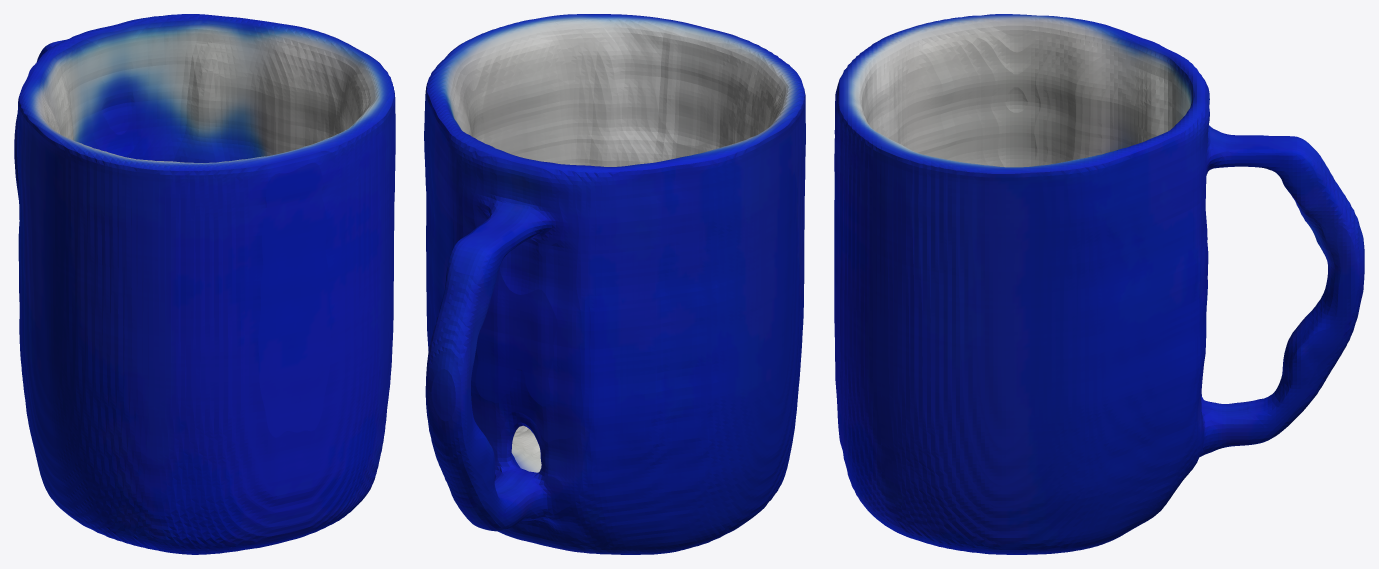
3 renders of one model, left to right at view 1: azimuth 30°, elevation 25°; view 2: azimuth 150°, elevation 25°; view 3: azimuth 270°, elevation 25°, orthographic.
Visible parts, largest first — view 1: geometry_0; view 2: geometry_0; view 3: geometry_0.
Boxes of the visible parts, bbox=[...] form: geometry_0: bbox=[14, 14, 395, 554]; geometry_0: bbox=[424, 14, 805, 554]; geometry_0: bbox=[834, 14, 1364, 554].
Size of the model in its own units: 1.14 by 1.36 by 1.6.
